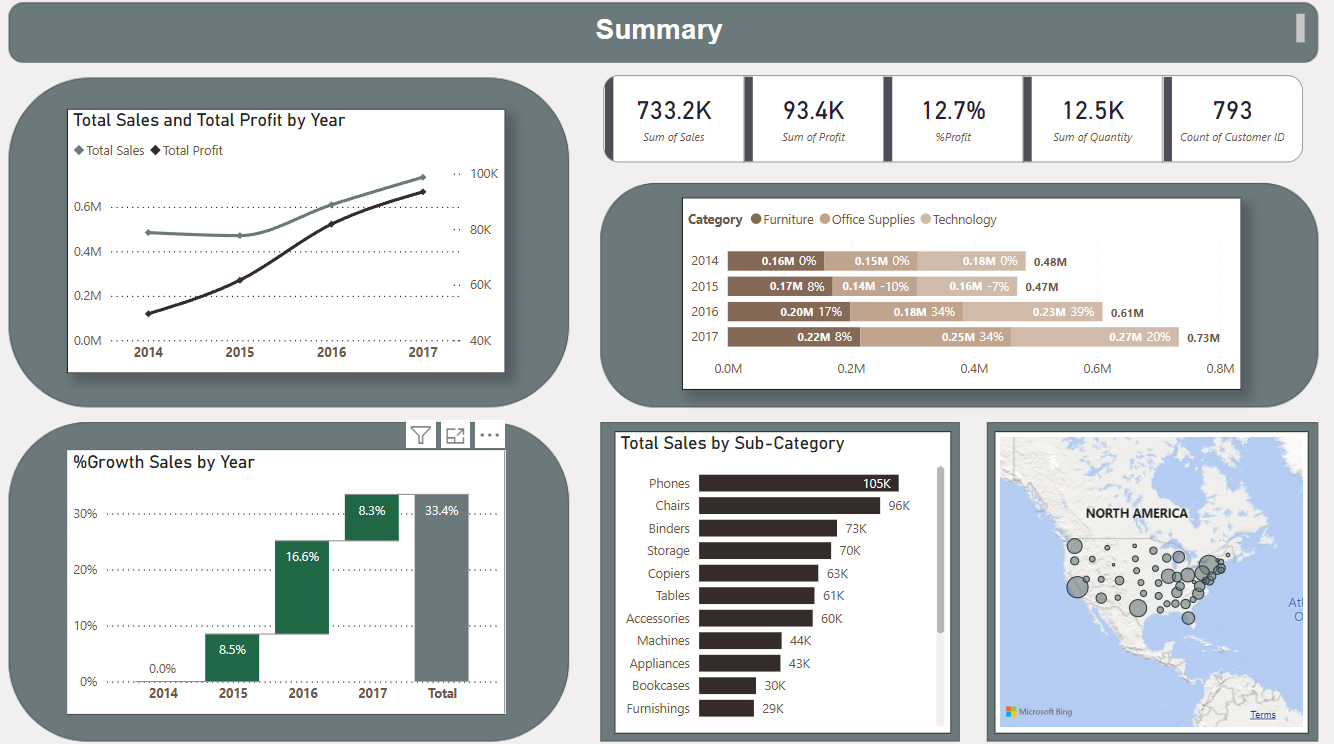

This screenshot's page, from the dashboard's own definition file:
{"tool":"powerbi","page":{"name":"Summary","canvas":[1280,720],"ordinal":1},"visuals":[{"type":"cardVisual","fields":{"Data":["Sum(Sales.Sales)","Sum(Sales.Profit)","Sales.%Profit","Sum(Sales.Quantity)","Count(DimCustomer.Customer ID)"]},"box":[577.8,72,677,93.4],"z":0},{"type":"waterfallChart","fields":{"Category":["DimDate.Year"],"Y":["Sales.Sales YOY% Growth"]},"box":[72,432.8,417.3,251.9],"z":1000},{"type":"barChart","fields":{"Category":["DimProduct.Sub-Category"],"Y":["Sales.Total Sales"]},"box":[592.3,415.3,321,287.9],"z":2000},{"type":"lineChart","fields":{"Category":["DimDate.Year","DimDate.Year Quarter","DimDate.Year Month"],"Y":["Sales.Total Sales"],"Y2":["Sales.Total Profit"]},"box":[72,108,417.3,251.9],"z":3000},{"type":"map","fields":{"Category":["DimShippingLocation.State"],"Size":["Sum(Sales.Sales)"]},"box":[955.1,415.3,299.6,287.9],"z":4000},{"type":"textbox","box":[23.3,13.6,1231.4,38.9],"z":5000},{"type":"barChart","fields":{"Category":["DimDate.Year"],"Y":["Sum(Sales.Sales)"],"Series":["DimProduct.Category"]},"box":[657.5,192.6,533,182.9],"z":6000}]}

Visuals, with their boxes in screenshot pixels (x1, y1, x2, y2), scaled from the page's 1280x720 canvas onto the 1334x744 screenshot:
cardVisual - Sum(Sales.Sales) x Sum(Sales.Profit): (left=602, top=74, right=1308, bottom=171)
waterfallChart - DimDate.Year x Sales.Sales YOY% Growth: (left=75, top=447, right=510, bottom=708)
barChart - DimProduct.Sub-Category x Sales.Total Sales: (left=617, top=429, right=952, bottom=727)
lineChart - DimDate.Year x DimDate.Year Quarter: (left=75, top=112, right=510, bottom=372)
map - DimShippingLocation.State x Sum(Sales.Sales): (left=995, top=429, right=1308, bottom=727)
textbox: (left=24, top=14, right=1308, bottom=54)
barChart - DimDate.Year x Sum(Sales.Sales): (left=685, top=199, right=1241, bottom=388)
